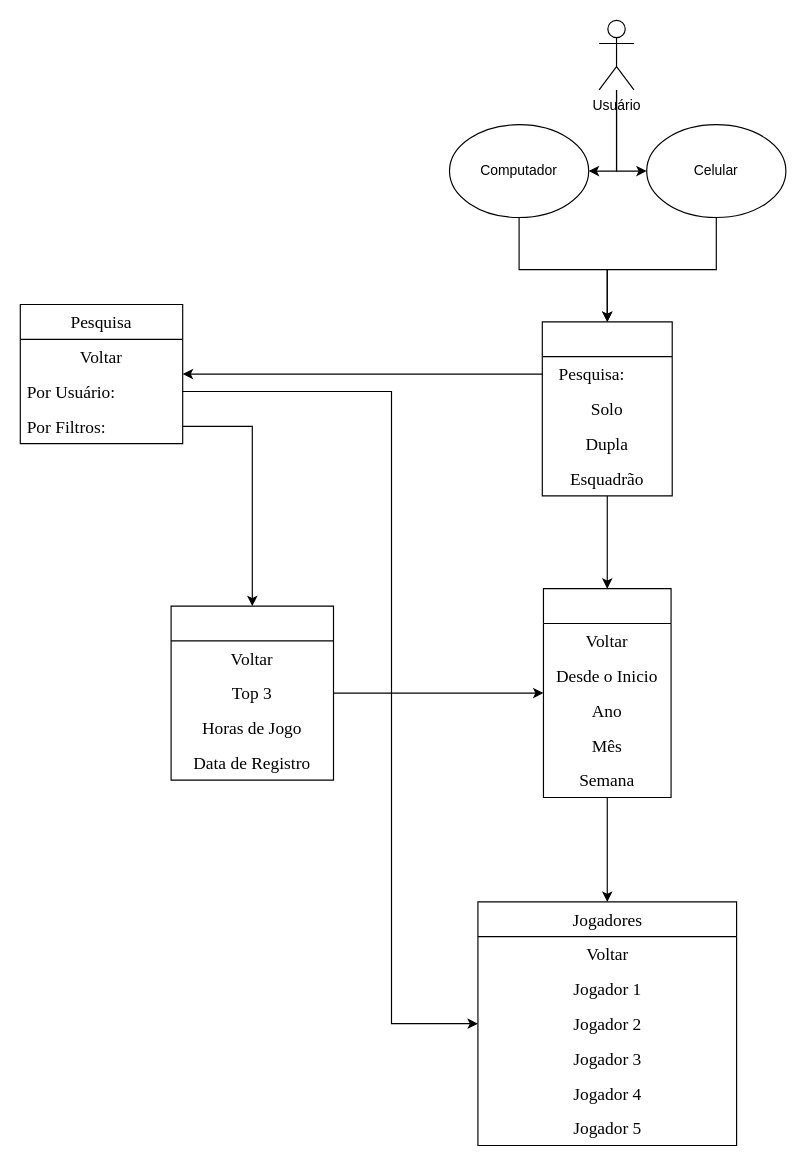
The diagram is 806 pixels wide and 1166 high, and some of its shapes have lost their labels. The shapes that lost their labels are listed below. From the top down, each one's box as (x1, y1, x2, y2) in pixels, then its label:
(541, 321, 672, 496): Site
(170, 605, 334, 780): Filtros
(542, 588, 671, 798): Períodos
